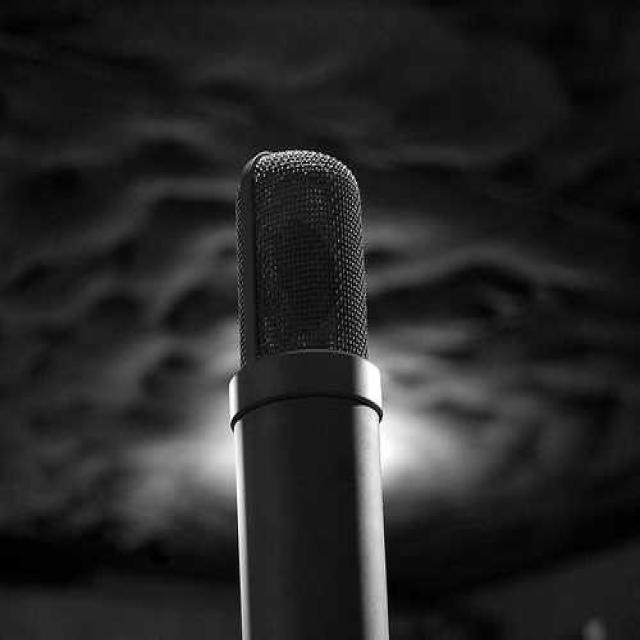microphone: (228, 150, 397, 640)
